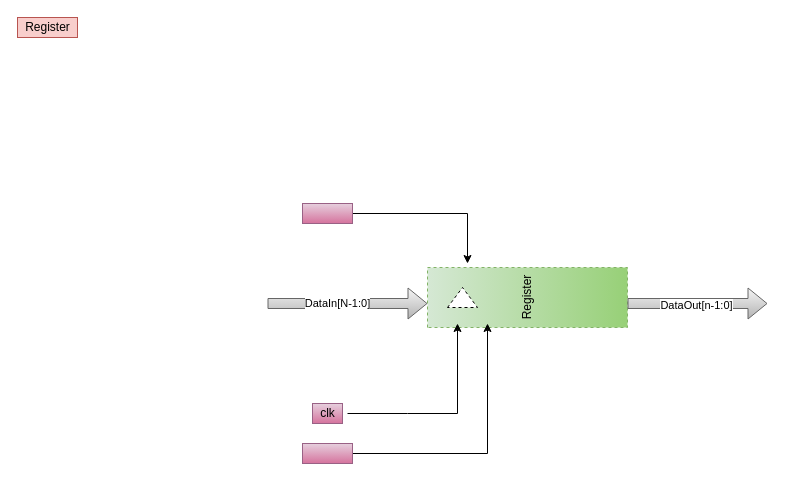
Some shapes in this 785 by 481 pixel diagram are drawn without their labels. The shapes that lost their labels are listed below. From the top down, each one's centre as x and y in pixels, then its label:
pixel 327 213: ~load
pixel 327 453: ~reset
